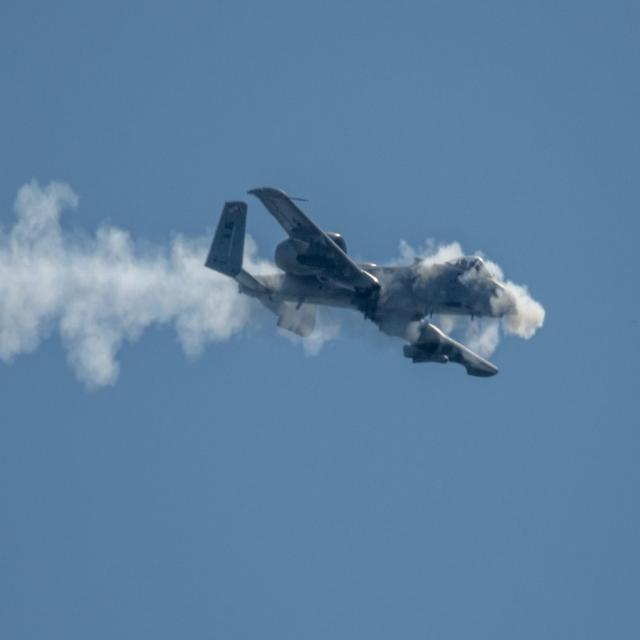MIL_Plane: (204, 187, 518, 377)
